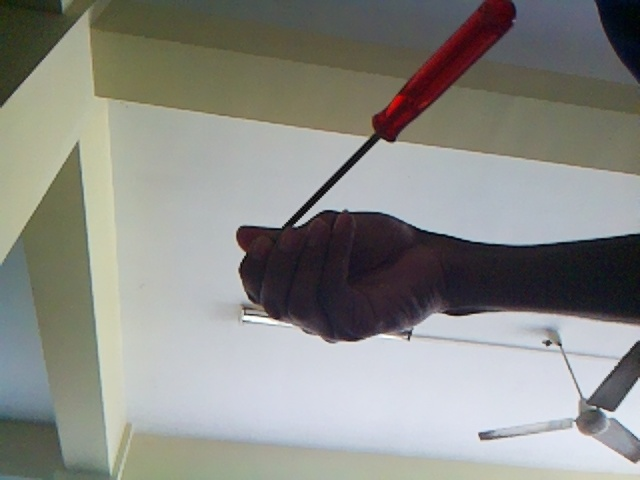redskrew: (286, 1, 522, 243)
